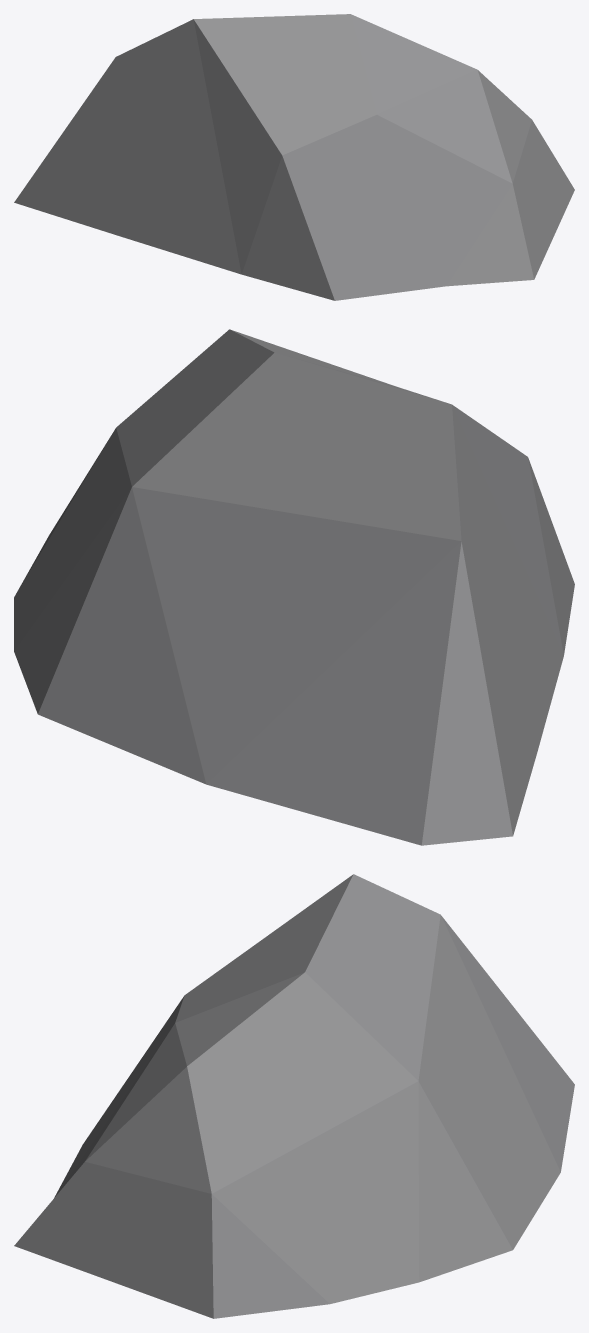
The model's file is RockMedium_01.glb.
3 views of the same model, one above another, from view 1: azimuth 30°, elevation 25°; view 2: azimuth 150°, elevation 25°; view 3: azimuth 270°, elevation 25° (orthographic). The views are drawn at different scales.
Visible parts, largest first — view 1: RockMedium_01; view 2: RockMedium_01; view 3: RockMedium_01.
Boxes of the visible parts, left/top/right/bottom form: RockMedium_01: left=14, top=14, right=574, bottom=300; RockMedium_01: left=14, top=329, right=574, bottom=845; RockMedium_01: left=14, top=874, right=574, bottom=1318.
Size of what is drawn, in the model's own units: 1.32 by 0.603 by 1.21.
Materials: 1 (1 with a texture image).
